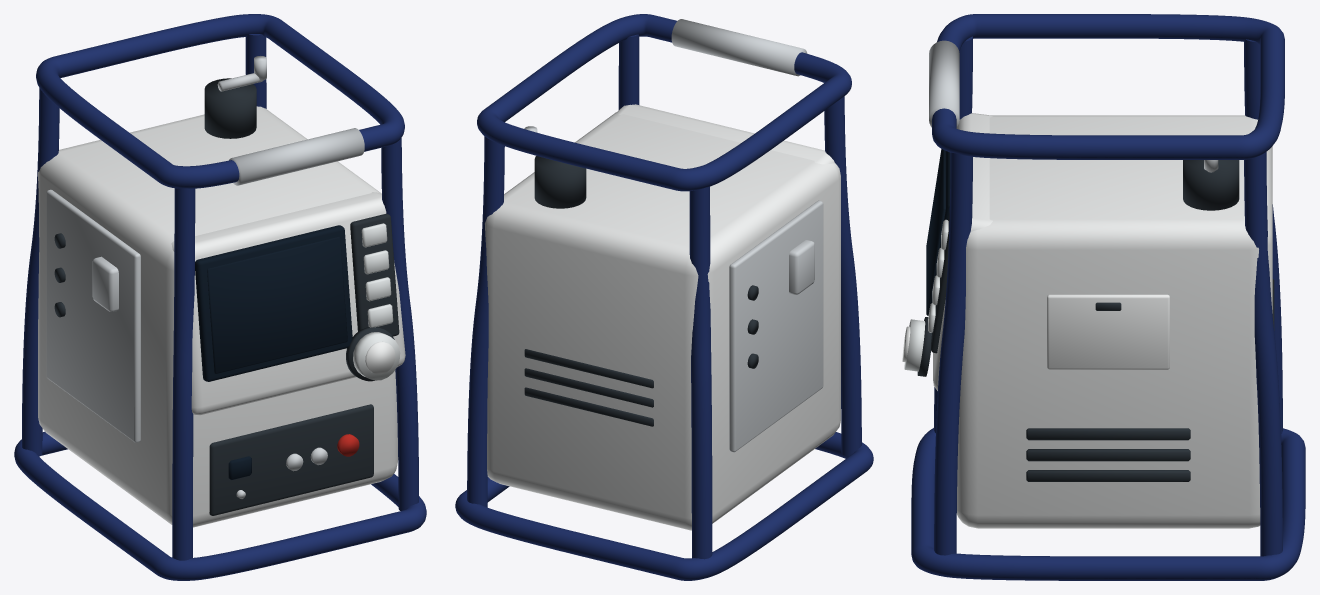
File: cardiohelp-console.glb
3 views of the same model, side by side, from view 1: azimuth 30°, elevation 25°; view 2: azimuth 150°, elevation 25°; view 3: azimuth 270°, elevation 25° (orthographic). The views are drawn at different scales.
Visible parts, largest first — view 1: cardiohelp_console; view 2: cardiohelp_console; view 3: cardiohelp_console.
Part boxes in pixels (x1=…): cardiohelp_console: x1=14, y1=14, x2=426, y2=580; cardiohelp_console: x1=455, y1=14, x2=873, y2=580; cardiohelp_console: x1=902, y1=14, x2=1305, y2=580.
Size of the model in its own units: 0.668 by 0.945 by 0.7856.
